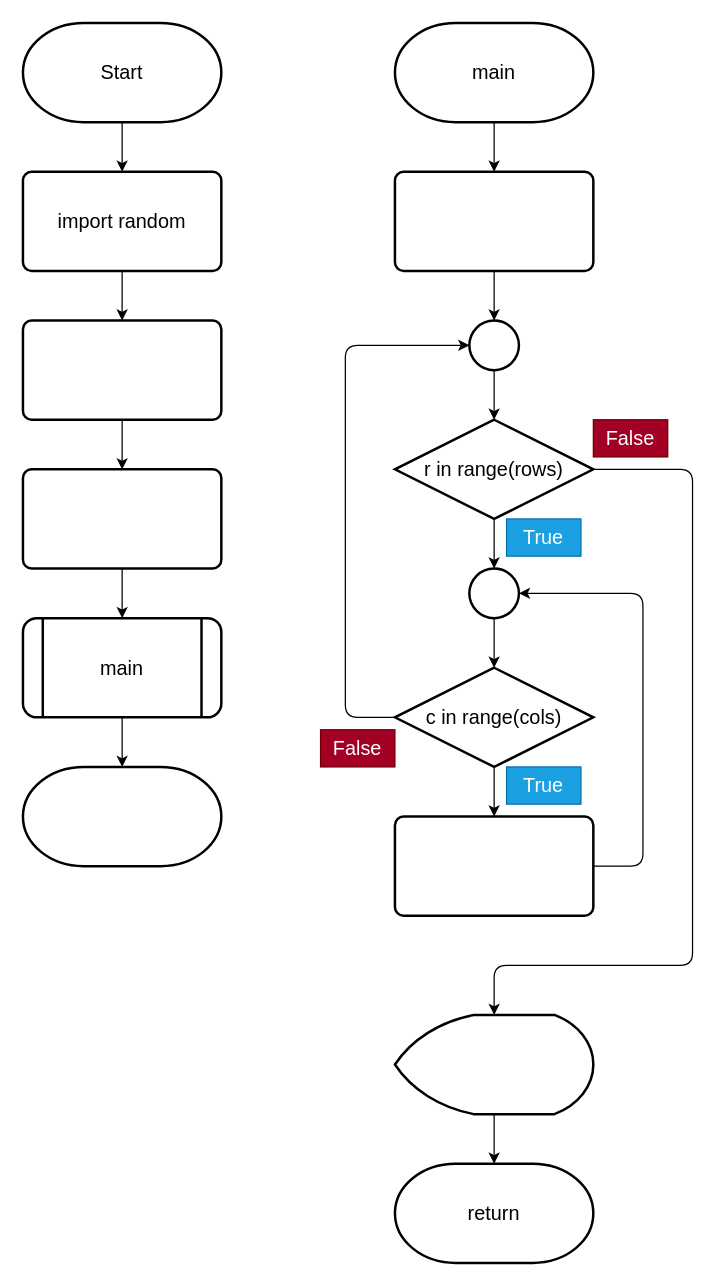
This 724x1285 diagram has some shape labels left out. The shapes that lost their labels are listed below. From the top down, each one's box as (x1, y1, x2, y2) in pixels, then its label:
(393, 170, 594, 272): values = [[0, 0, 0, 0], [0, 0, 0, 0], [0, 0, 0, 0]]
(21, 319, 222, 420): rows = 3
(21, 467, 222, 569): cols = 4
(21, 765, 222, 867): End
(393, 815, 594, 916): values[r][c] = random.randint (1, 100)
(393, 1013, 594, 1115): values
